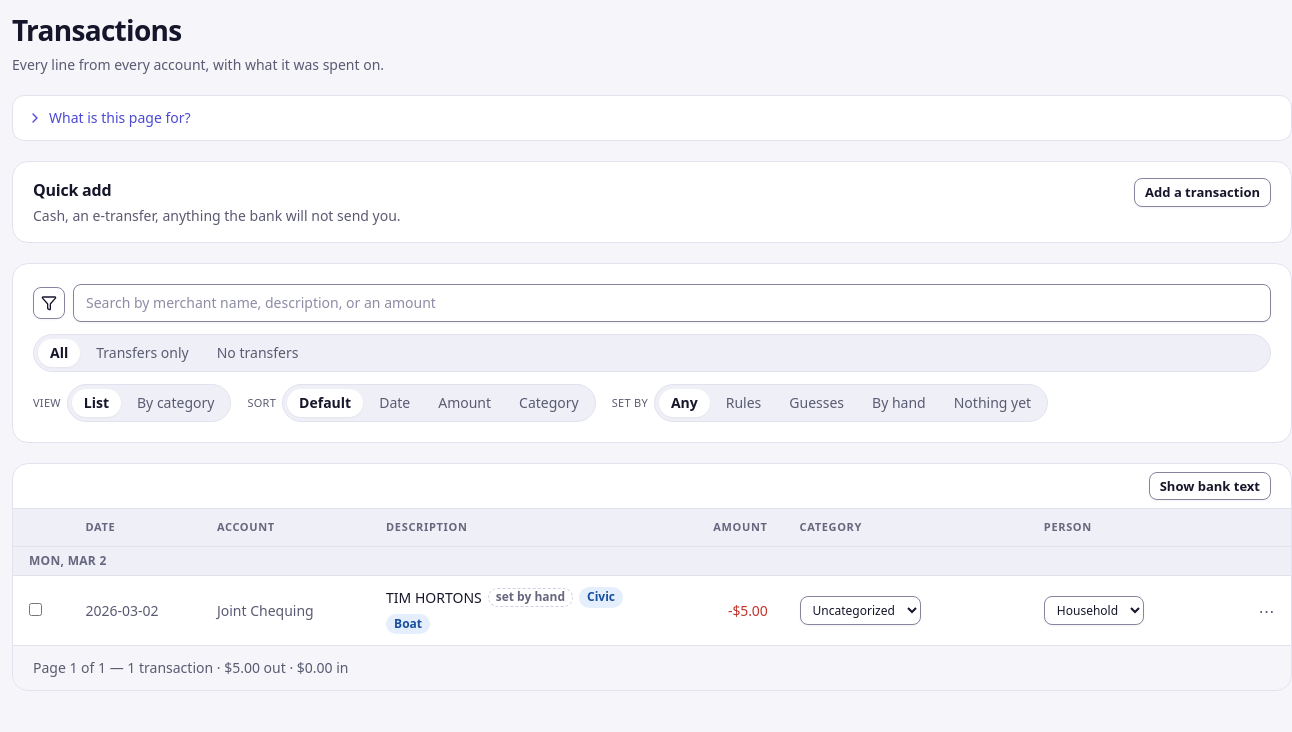
it: MUST-14.8 / MUST-14.9: the row control › renders every link on a row, each with its own Unassign (F4 fix-round: a combined payment)
Click the button named "Actions for TIM HORTONS". click: (1267, 611)
box: [1251, 595, 1283, 627]
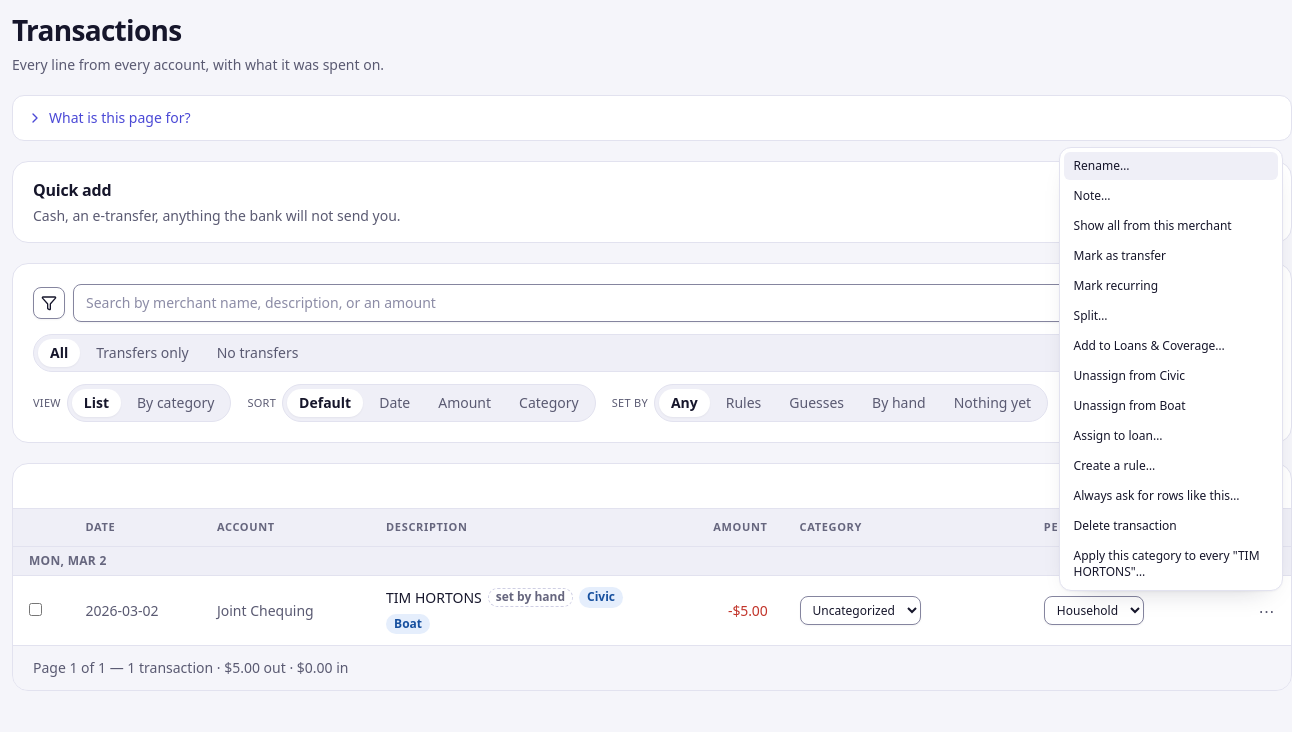
Check: the menu item "Unassign from Civic" is shown, box [1064, 362, 1278, 390]
Check: the menu item "Unassign from Boat" is shown, box [1064, 392, 1278, 420]
